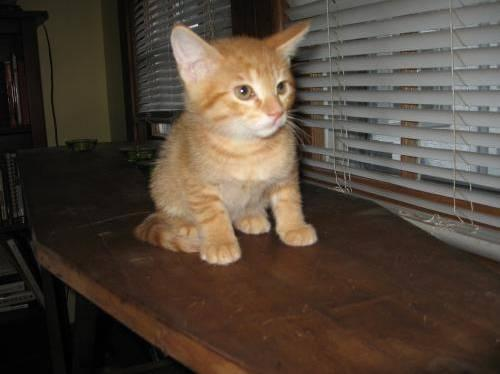cat: (136, 22, 317, 264)
